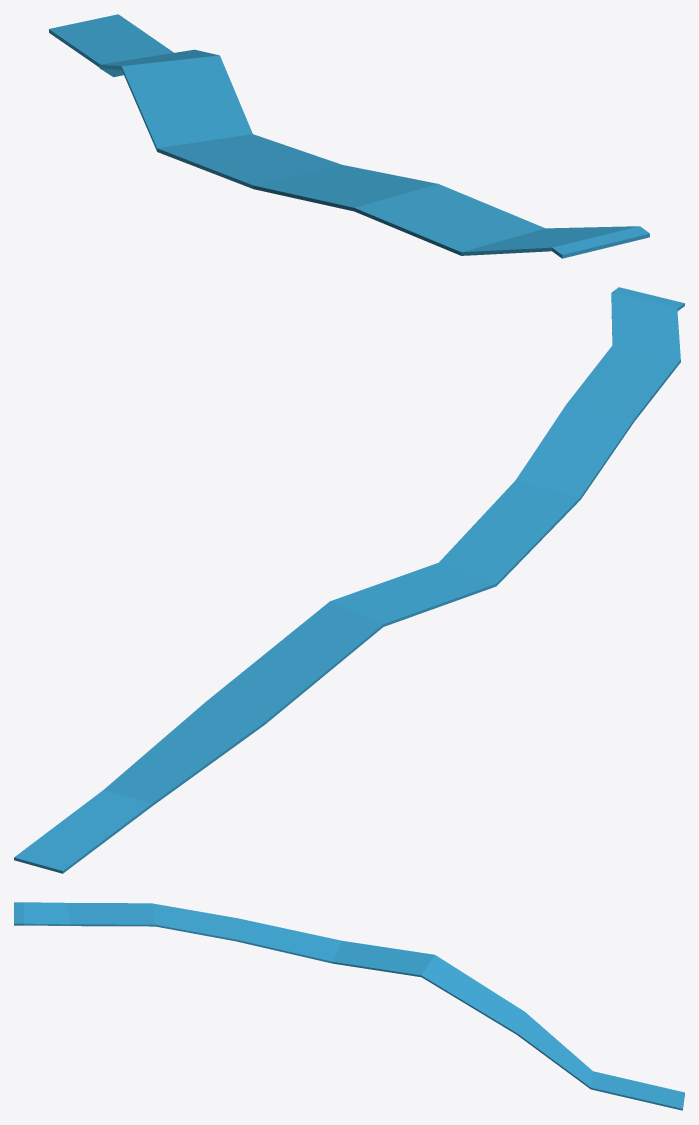
File: MiddleLaneSelected.fbx
The picture shows the model from 3 angles, top to bottom: view 1: azimuth 30°, elevation 25°; view 2: azimuth 150°, elevation 25°; view 3: azimuth 270°, elevation 25°; orthographic projection. The views are drawn at different scales.
Parts seen in each view (by area): view 1: MiddleLaneSelected; view 2: MiddleLaneSelected; view 3: MiddleLaneSelected.
Part boxes in pixels (x1,y1,x2,y2): MiddleLaneSelected: (49,14,649,258); MiddleLaneSelected: (14,287,684,873); MiddleLaneSelected: (14,902,684,1110).
Bounding box in the file's own units: 881 × 835 × 3304.
